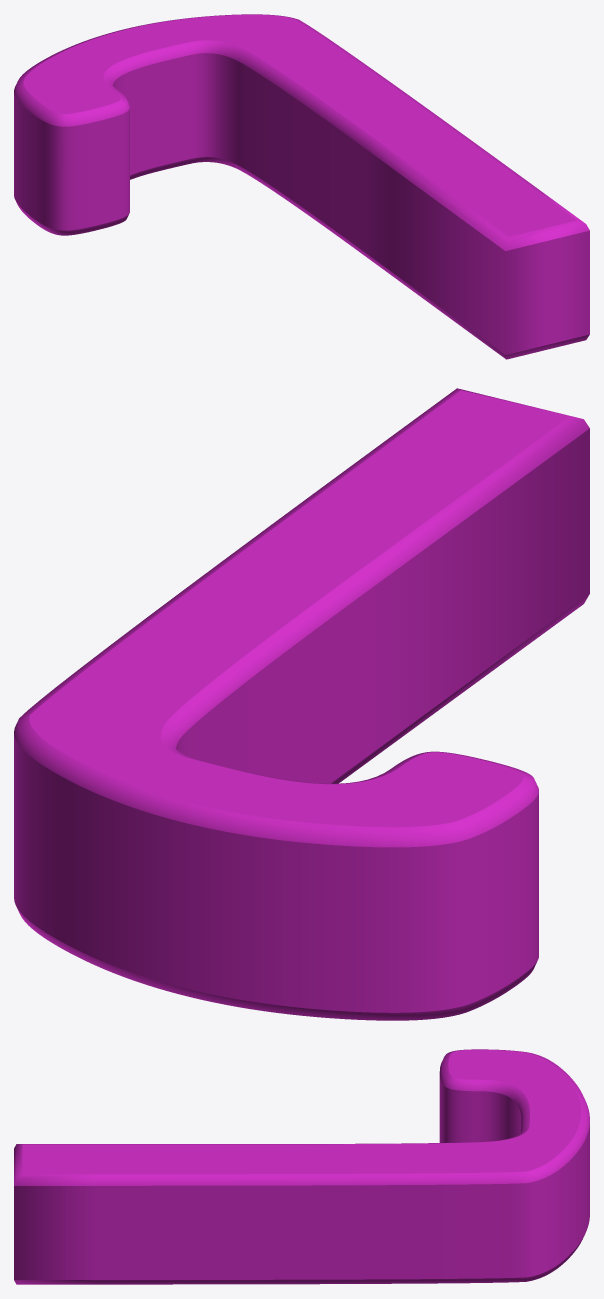
Rendered from Letter_l_CoolFont.fbx.
3 renders of one model, top to bottom at view 1: azimuth 30°, elevation 25°; view 2: azimuth 150°, elevation 25°; view 3: azimuth 270°, elevation 25°, orthographic. The views are drawn at different scales.
Visible parts, largest first — view 1: Letter_l; view 2: Letter_l; view 3: Letter_l.
Part boxes in pixels (left/top/right/bottom): Letter_l: left=14, top=14, right=589, bottom=359; Letter_l: left=14, top=388, right=589, bottom=1020; Letter_l: left=14, top=1049, right=589, bottom=1284.
Size of the model in its own units: 0.3606 by 0.14 by 0.6649.
